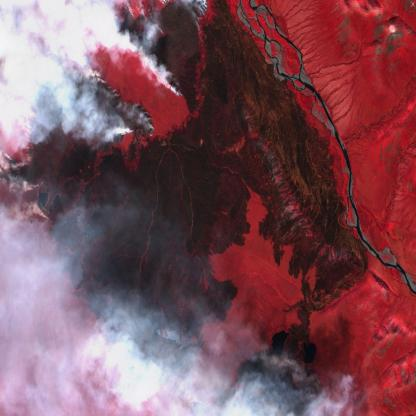fire: (77, 68, 157, 143), (10, 161, 52, 231), (143, 62, 189, 97), (192, 0, 210, 30), (127, 3, 148, 26), (154, 26, 168, 42)
